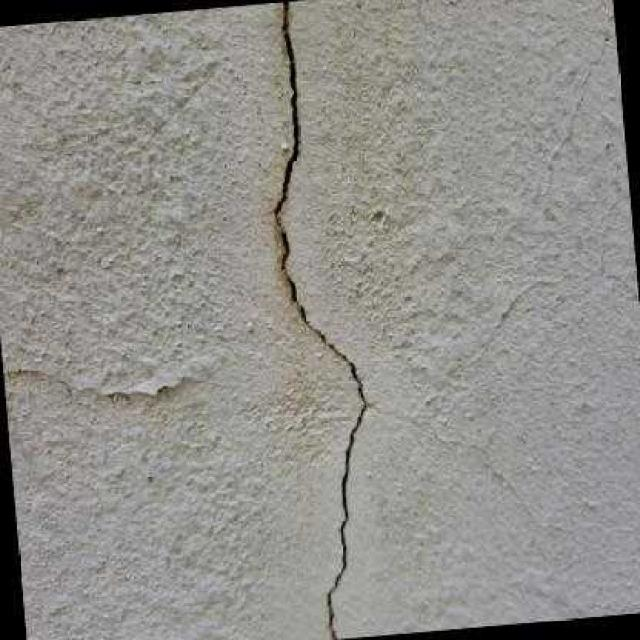D00: (275, 2, 366, 640)
